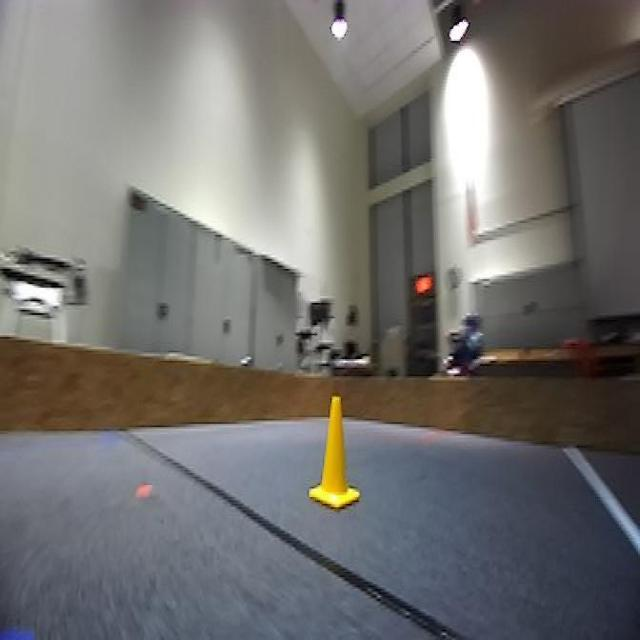frc_cone: (311, 402, 359, 517)
